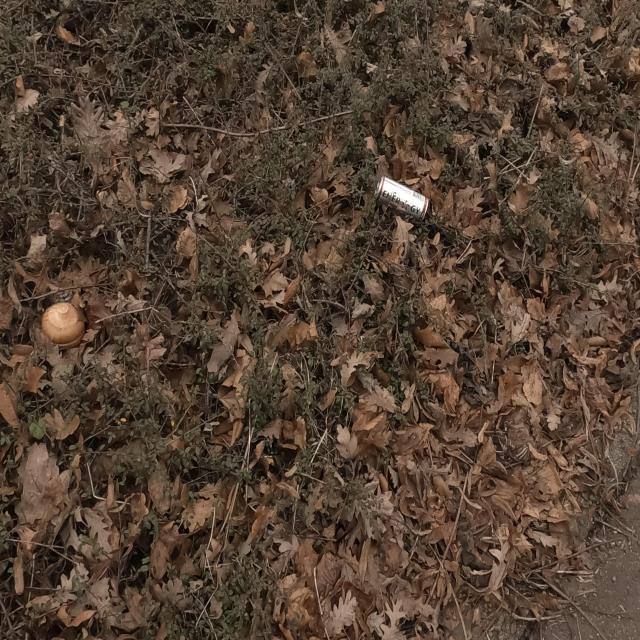Can-Metal: (375, 172, 433, 220)
